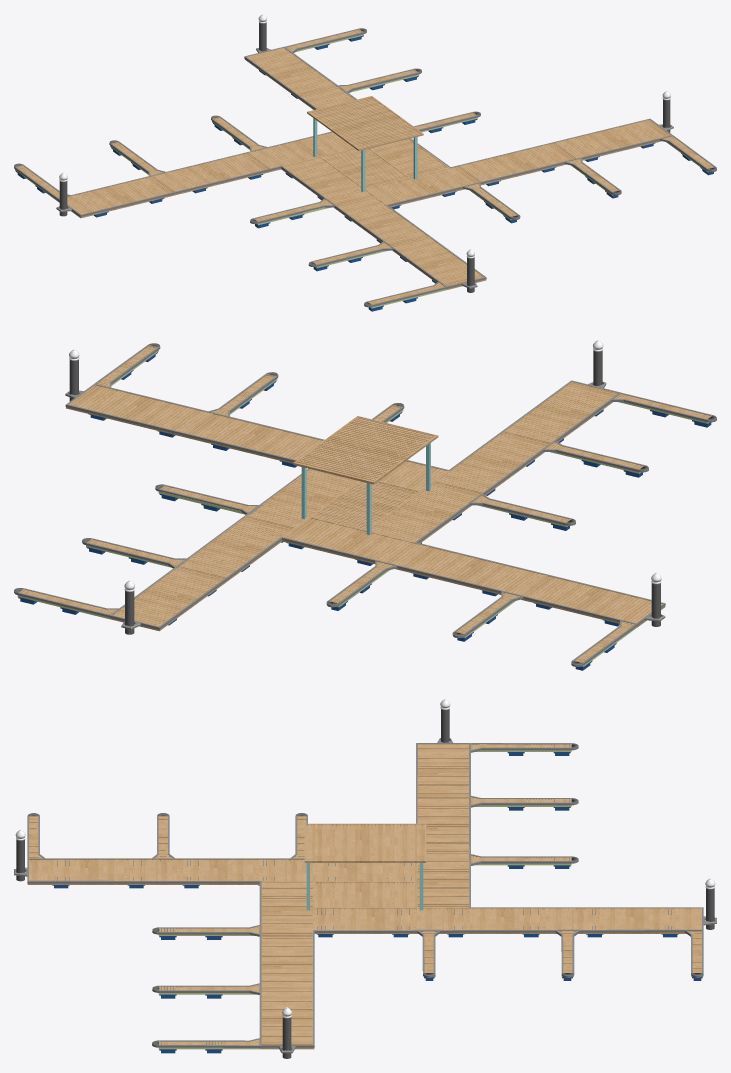
Rendered from Pantalan_completo2.obj.
3 renders of one model, top to bottom at view 1: azimuth 30°, elevation 25°; view 2: azimuth 150°, elevation 25°; view 3: azimuth 270°, elevation 25°, orthographic. The views are drawn at different scales.
Visible parts, largest first — view 1: Wall001, Box271, Box014, Box012, Box016, Box013, Box015, Box010, Box009, Box007, Box008, Box002 (+3 smaller); view 2: Box271, Wall001, Box011, Box015, Box012, Box006, Box013, Box009, Box010, Box008, Box016, Box007 (+8 smaller); view 3: Box271, Wall001, Box005, Box006, Box008, Box009, Box007, Box014, Box016, Box013, Box002, Box011 (+4 smaller).
Part boxes in pixels (bbox=[...]): Wall001: bbox=[58, 46, 673, 288]; Box271: bbox=[307, 96, 423, 150]; Box014: bbox=[365, 165, 482, 207]; Box012: bbox=[154, 152, 271, 194]; Box016: bbox=[461, 142, 576, 184]; Box013: bbox=[57, 175, 175, 218]; Box015: bbox=[555, 119, 670, 160]; Box010: bbox=[281, 156, 375, 209]; Box009: bbox=[336, 197, 429, 246]; Box007: bbox=[244, 47, 337, 99]; Box008: bbox=[392, 237, 486, 289]; Box002: bbox=[321, 148, 409, 188]; Box271: bbox=[293, 416, 438, 484]; Wall001: bbox=[65, 380, 665, 629]; Box011: bbox=[282, 517, 427, 569]; Box015: bbox=[66, 384, 211, 436]; Box012: bbox=[399, 546, 545, 594]; Box006: bbox=[180, 516, 295, 580]; Box013: bbox=[519, 575, 665, 627]; Box009: bbox=[435, 431, 550, 495]; Box010: bbox=[371, 481, 482, 543]; Box008: bbox=[505, 381, 617, 442]; Box016: bbox=[184, 413, 323, 463]; Box007: bbox=[110, 566, 227, 631]; Box271: bbox=[304, 823, 426, 862]; Wall001: bbox=[27, 743, 703, 1047]; Box005: bbox=[314, 907, 443, 933]; Box006: bbox=[443, 907, 573, 933]; Box008: bbox=[27, 859, 157, 884]; Box009: bbox=[157, 859, 286, 884]; Box007: bbox=[573, 908, 701, 933]; Box014: bbox=[261, 881, 314, 936]; Box016: bbox=[261, 936, 312, 990]; Box013: bbox=[417, 744, 468, 798]; Box002: bbox=[314, 881, 416, 907]; Box011: bbox=[416, 853, 469, 907].
Size of the model in its own units: 85.6 by 7.72 by 81.02.
